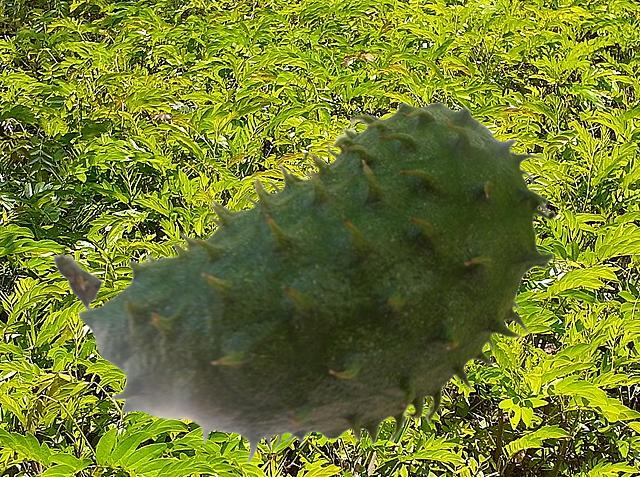guyabano: (52, 101, 555, 464)
